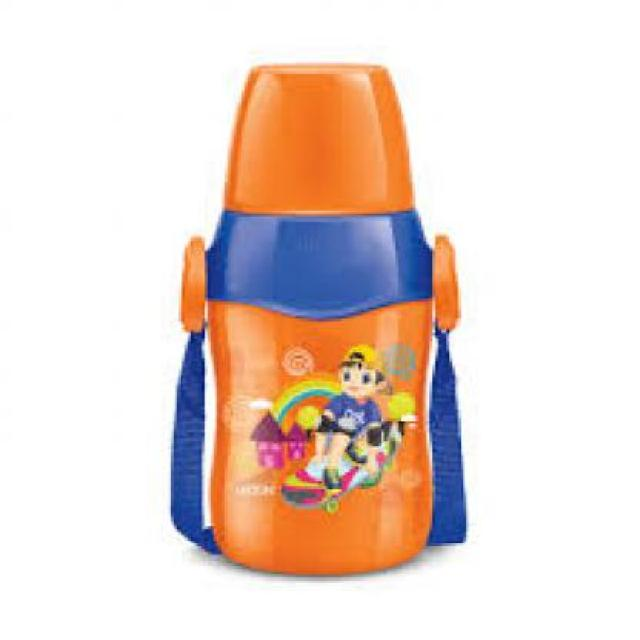Drinking: (208, 52, 446, 598)
